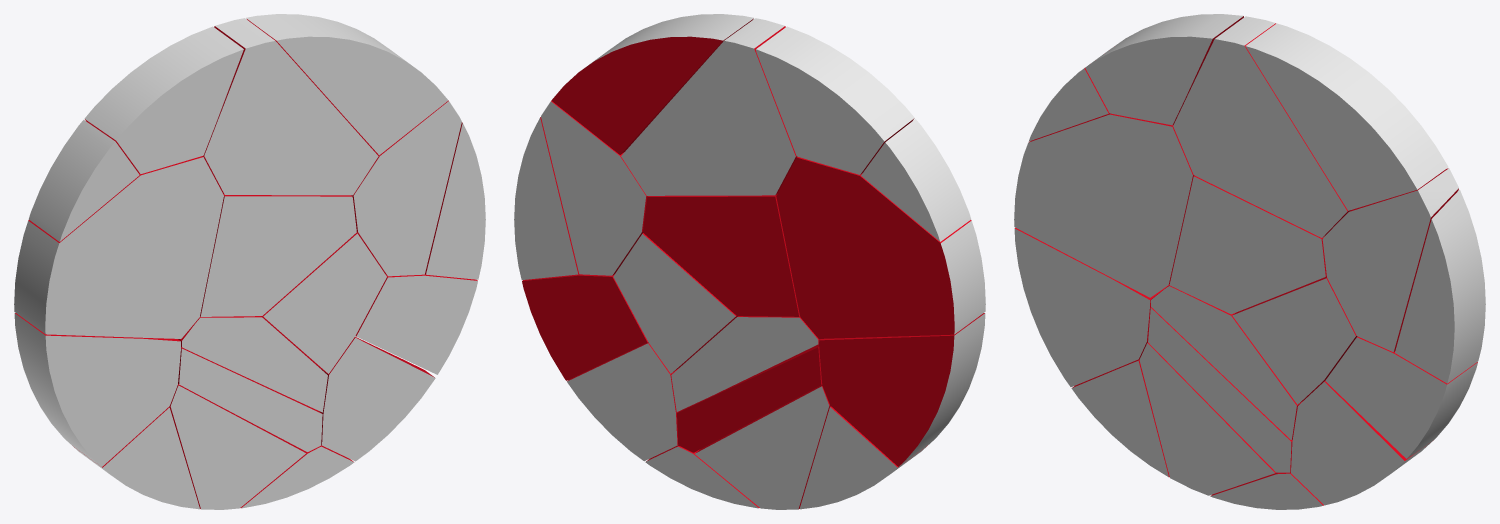
The model's file is target_model_fractured.fbx.
3 views of the same model, side by side, from view 1: azimuth 30°, elevation 25°; view 2: azimuth 150°, elevation 25°; view 3: azimuth 330°, elevation 25° (orthographic).
Parts seen in each view (by area): view 1: Cylinder_cell.001, Cylinder_cell.019, Cylinder_cell.017, Cylinder_cell.016, Cylinder_cell.018, Cylinder_cell.006, Cylinder_cell.005, Cylinder_cell.002, Cylinder_cell.010, Cylinder_cell.009, Cylinder_cell.004, Cylinder_cell.007 (+5 smaller); view 2: Cylinder_cell.001, Cylinder_cell.019, Cylinder_cell.017, Cylinder_cell.016, Cylinder_cell.018, Cylinder_cell.006, Cylinder_cell.005, Cylinder_cell.002, Cylinder_cell.004, Cylinder_cell.009, Cylinder_cell.010, Cylinder_cell.007 (+5 smaller); view 3: Cylinder_cell.001, Cylinder_cell.019, Cylinder_cell.006, Cylinder_cell.016, Cylinder_cell.017, Cylinder_cell.005, Cylinder_cell.014, Cylinder_cell.018, Cylinder_cell.004, Cylinder_cell.002, Cylinder_cell.009, Cylinder_cell.010 (+5 smaller).
Part boxes in pixels (x1,y1,x2,y2): Cylinder_cell.001: [14, 156, 223, 338]; Cylinder_cell.019: [202, 18, 378, 195]; Cylinder_cell.017: [14, 313, 180, 466]; Cylinder_cell.016: [200, 194, 356, 316]; Cylinder_cell.018: [84, 26, 243, 173]; Cylinder_cell.006: [246, 14, 448, 155]; Cylinder_cell.005: [351, 100, 461, 276]; Cylinder_cell.002: [169, 384, 305, 509]; Cylinder_cell.010: [316, 337, 435, 461]; Cylinder_cell.009: [261, 233, 386, 373]; Cylinder_cell.004: [355, 274, 477, 374]; Cylinder_cell.007: [178, 316, 327, 412]; Cylinder_cell.001: [776, 157, 985, 338]; Cylinder_cell.019: [621, 18, 797, 195]; Cylinder_cell.017: [819, 313, 985, 466]; Cylinder_cell.016: [643, 194, 799, 316]; Cylinder_cell.018: [756, 26, 914, 174]; Cylinder_cell.006: [551, 14, 753, 154]; Cylinder_cell.005: [541, 101, 648, 275]; Cylinder_cell.002: [695, 385, 830, 509]; Cylinder_cell.004: [522, 274, 647, 380]; Cylinder_cell.009: [613, 233, 737, 373]; Cylinder_cell.010: [567, 342, 680, 461]; Cylinder_cell.007: [671, 316, 820, 411]; Cylinder_cell.001: [1014, 113, 1194, 297]; Cylinder_cell.019: [1173, 16, 1350, 237]; Cylinder_cell.006: [1245, 23, 1448, 210]; Cylinder_cell.016: [1169, 175, 1326, 314]; Cylinder_cell.017: [1014, 227, 1169, 386]; Cylinder_cell.005: [1322, 168, 1458, 352]; Cylinder_cell.014: [1395, 189, 1485, 383]; Cylinder_cell.018: [1085, 14, 1243, 125]; Cylinder_cell.004: [1325, 336, 1477, 458]; Cylinder_cell.002: [1139, 342, 1275, 495]; Cylinder_cell.009: [1232, 276, 1357, 404]; Cylinder_cell.010: [1291, 381, 1432, 505].
Bounding box in the file's own units: 90 × 90 × 11.
